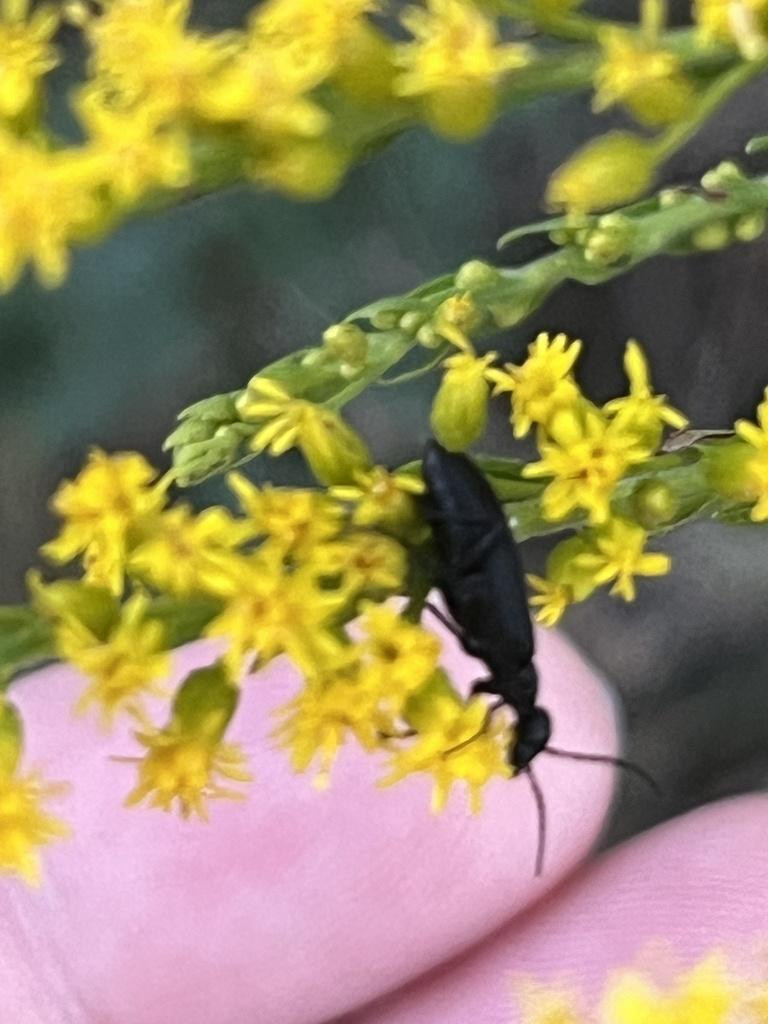blister_beetle: (326, 380, 703, 946)
